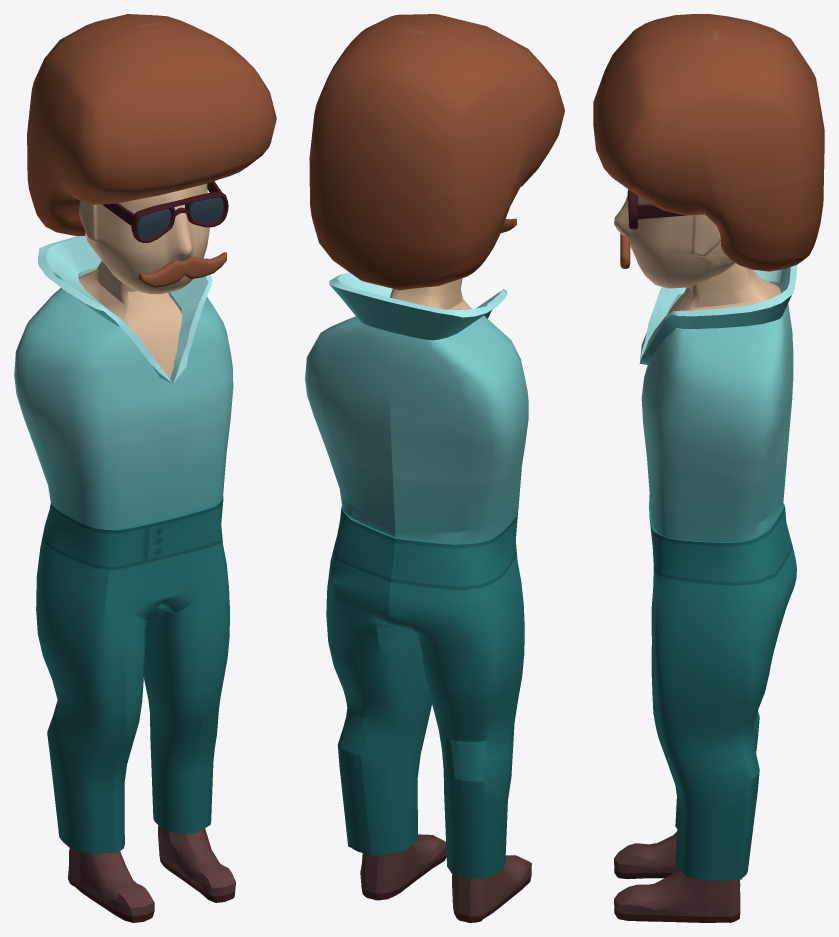
Rendered from MaleCharacter_70s_v2.fbx.
3 views of the same model, side by side, from view 1: azimuth 30°, elevation 25°; view 2: azimuth 150°, elevation 25°; view 3: azimuth 270°, elevation 25° (orthographic). The views are drawn at different scales.
Visible parts, largest first — view 1: Clothes, HeadGearCombo_70s_v2, M_Head_70s, Body; view 2: Clothes, HeadGearCombo_70s_v2, Body; view 3: Clothes, HeadGearCombo_70s_v2, M_Head_70s, Body.
Boxes of the visible parts, x1,y1,x2,y2 form: Clothes: (14, 236, 235, 922); HeadGearCombo_70s_v2: (27, 14, 276, 287); M_Head_70s: (79, 183, 209, 294); Body: (78, 261, 181, 378); Clothes: (305, 272, 531, 922); HeadGearCombo_70s_v2: (309, 14, 564, 290); Body: (390, 278, 471, 309); Clothes: (614, 265, 797, 922); HeadGearCombo_70s_v2: (593, 14, 824, 271); M_Head_70s: (614, 196, 735, 288); Body: (667, 263, 780, 314).
Bounding box in the file's own units: 4.13 × 16.5 × 3.99.
